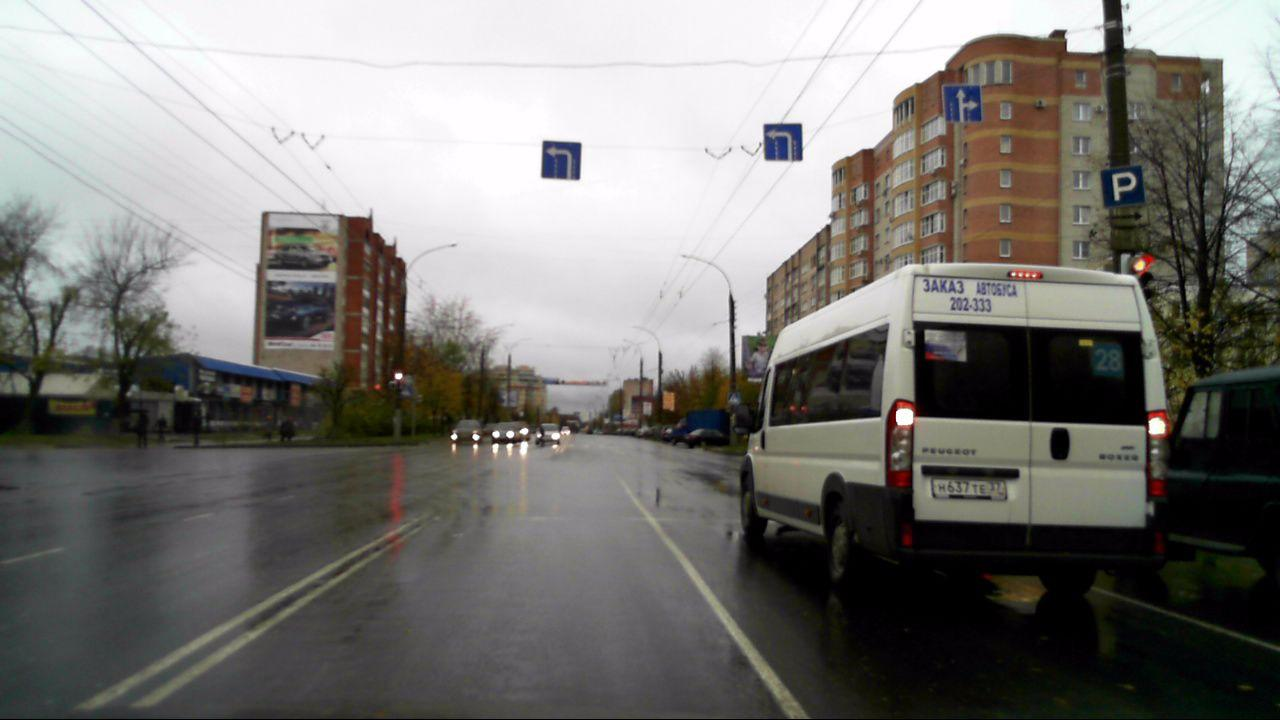5_15_2: (539, 140, 582, 180), (762, 124, 805, 163), (943, 88, 981, 123)
6_4: (1101, 164, 1145, 207)
8_3_1: (1110, 208, 1150, 226)
